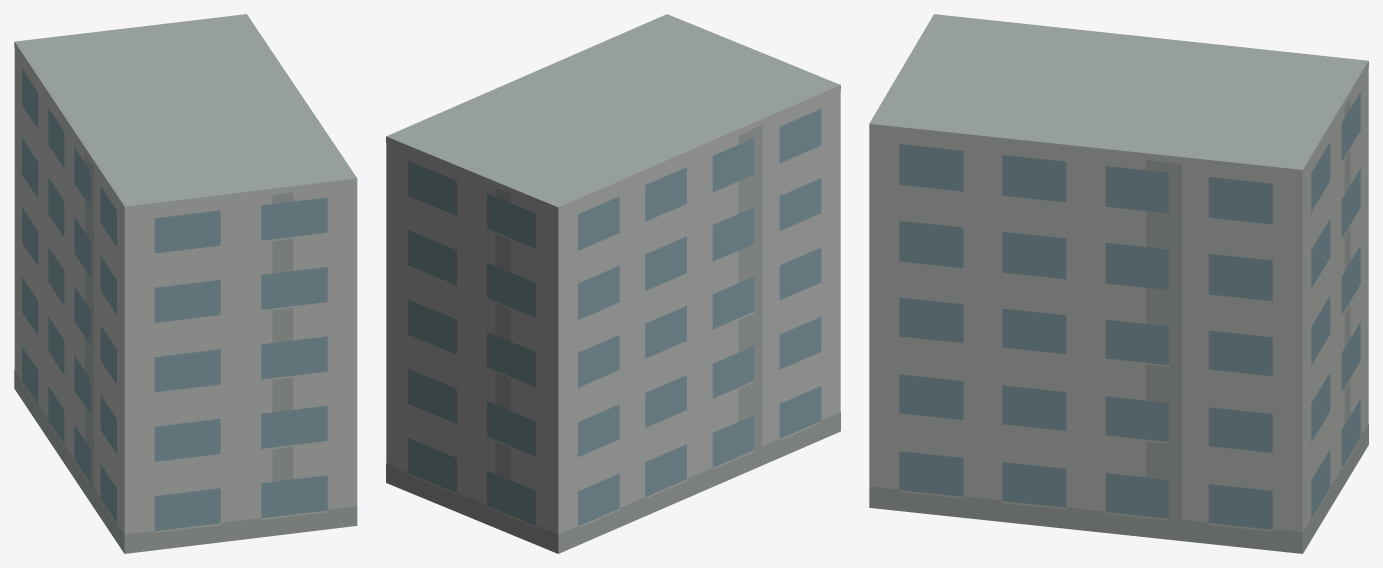
Rendered from survey-upis-32696337.glb.
The picture shows the model from 3 angles, left to right: view 1: azimuth 30°, elevation 25°; view 2: azimuth 150°, elevation 25°; view 3: azimuth 270°, elevation 25°; orthographic projection. The views are drawn at different scales.
Parts seen in each view (by area): view 1: survey-upis-32696337.tmp; view 2: survey-upis-32696337.tmp; view 3: survey-upis-32696337.tmp.
Boxes of the visible parts, x1,y1,x2,y2 form: survey-upis-32696337.tmp: [14, 14, 357, 553]; survey-upis-32696337.tmp: [386, 14, 840, 553]; survey-upis-32696337.tmp: [869, 14, 1368, 553].
Size of the model in its own units: 11.9 by 13.65 by 16.11.
